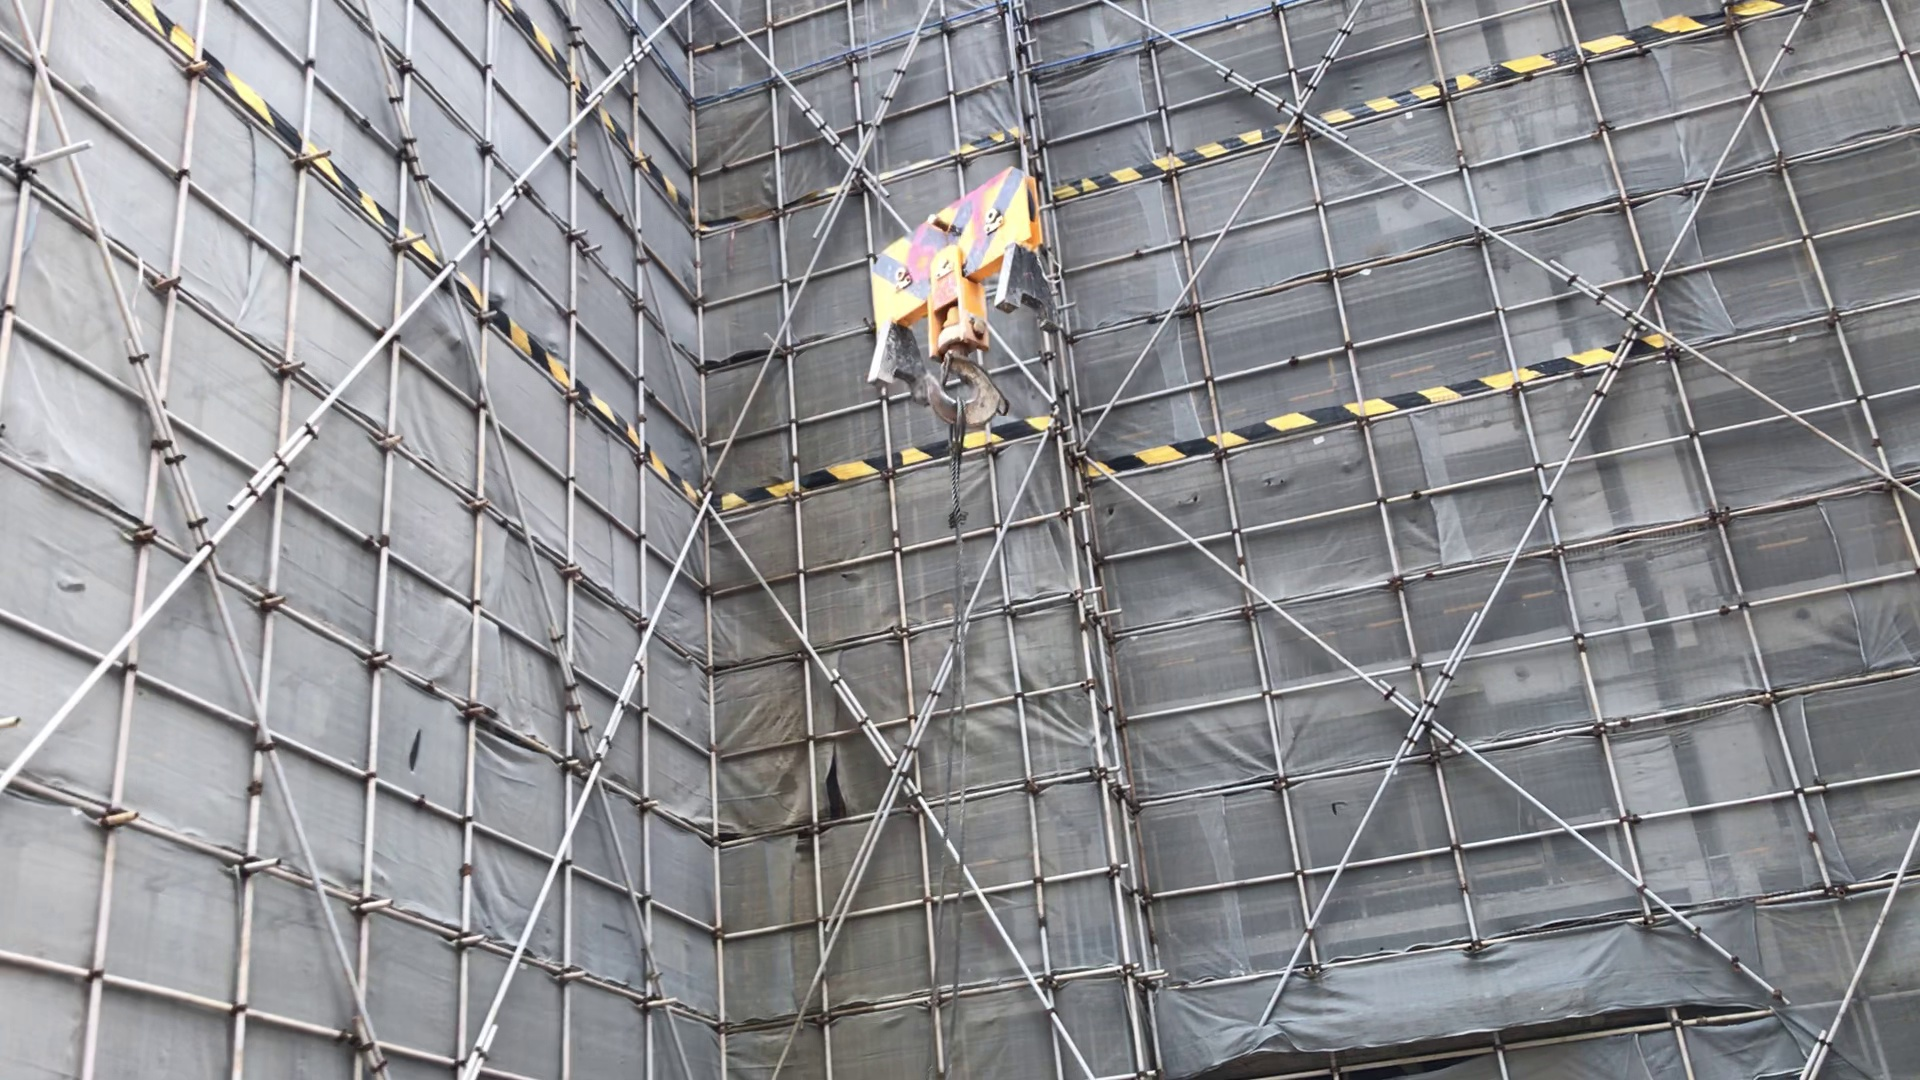hook: (861, 164, 1062, 434)
